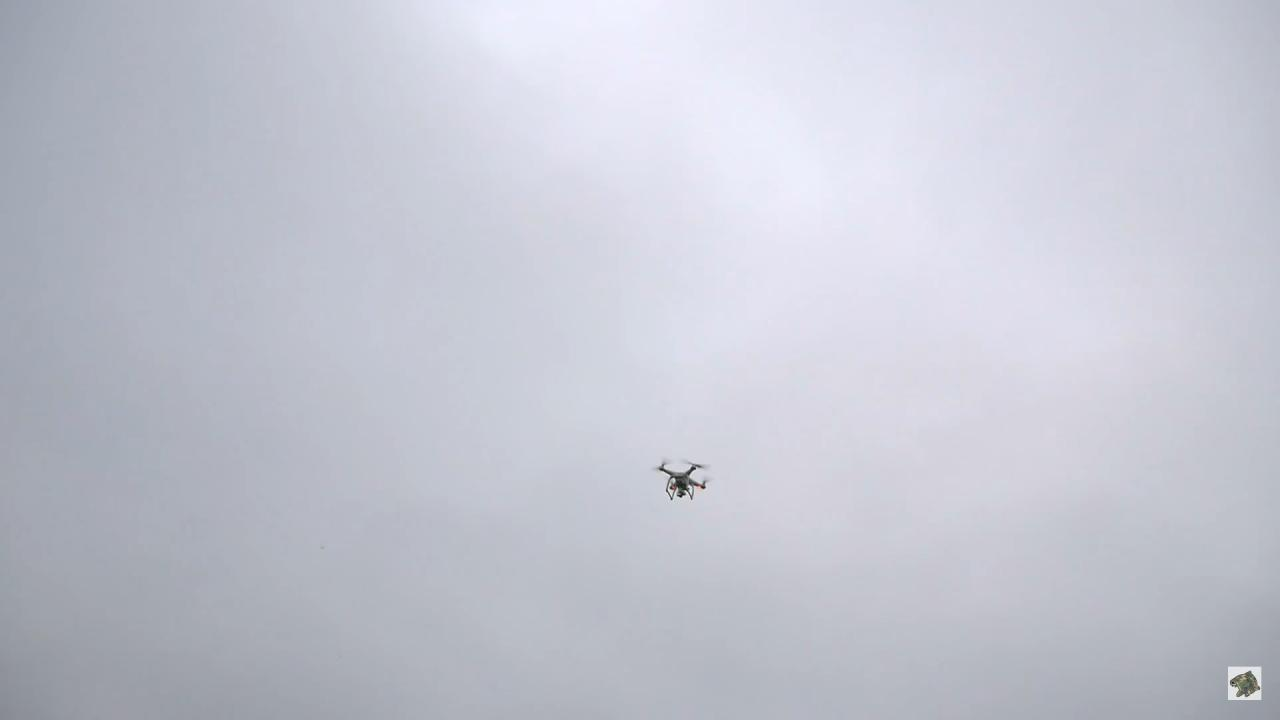Drone: (644, 448, 717, 509)
